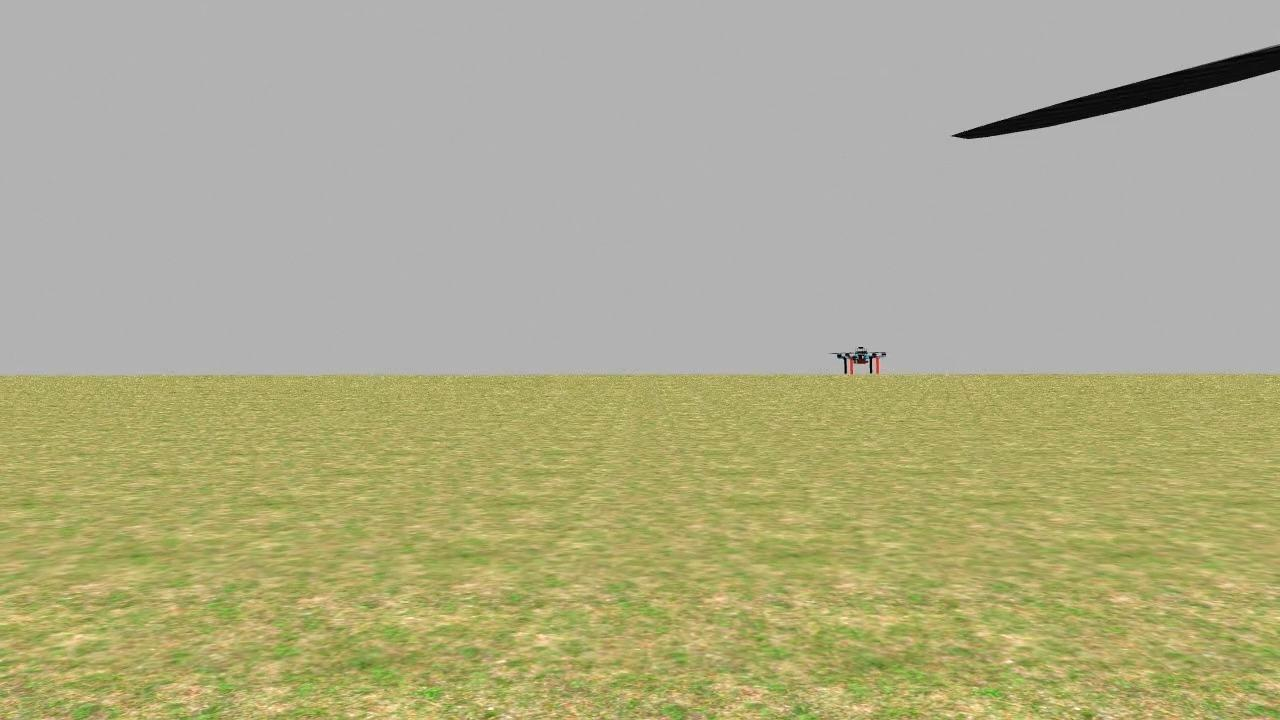UAV: (826, 340, 901, 387)
